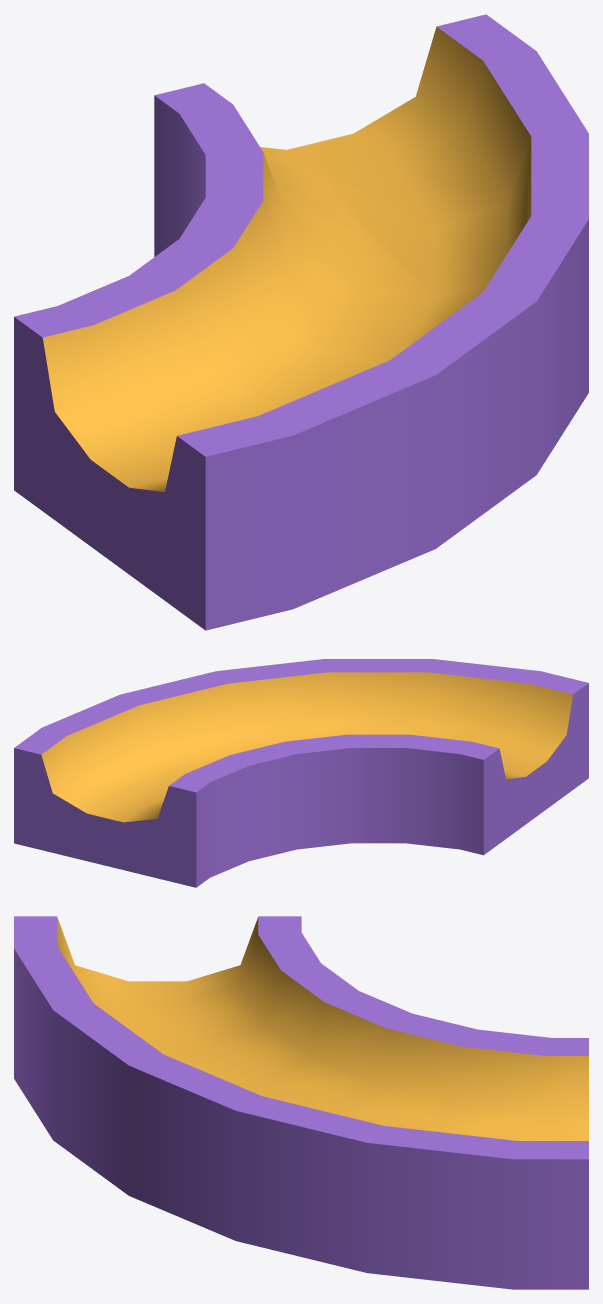
Rendered from kenney-marble-curve.glb.
3 renders of one model, top to bottom at view 1: azimuth 30°, elevation 25°; view 2: azimuth 150°, elevation 25°; view 3: azimuth 270°, elevation 25°, orthographic. The views are drawn at different scales.
Parts seen in each view (by area): view 1: curve; view 2: curve; view 3: curve.
Part boxes in pixels (x1,y1,x2,y2): curve: (14,14,588,630); curve: (14,659,588,887); curve: (14,916,588,1289).
Size of the model in its own units: 2 by 0.5001 by 2.
Materials: 1 (1 with a texture image).
